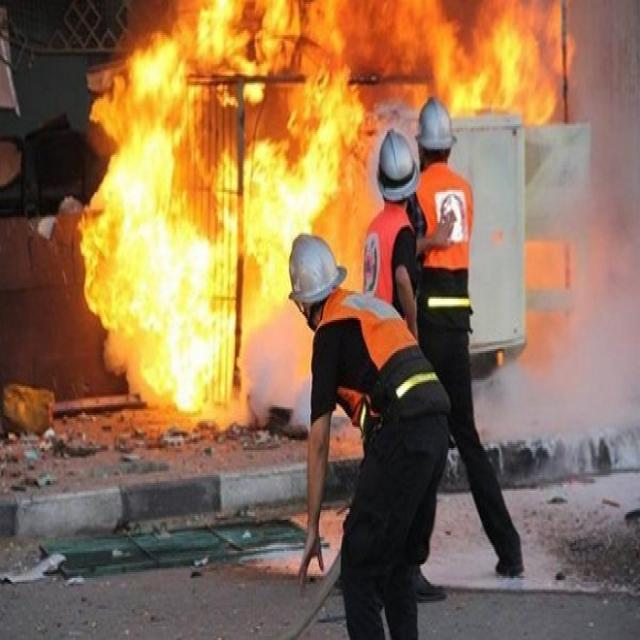fire: (72, 53, 296, 425)
person: (364, 71, 509, 592), (284, 223, 456, 640)
